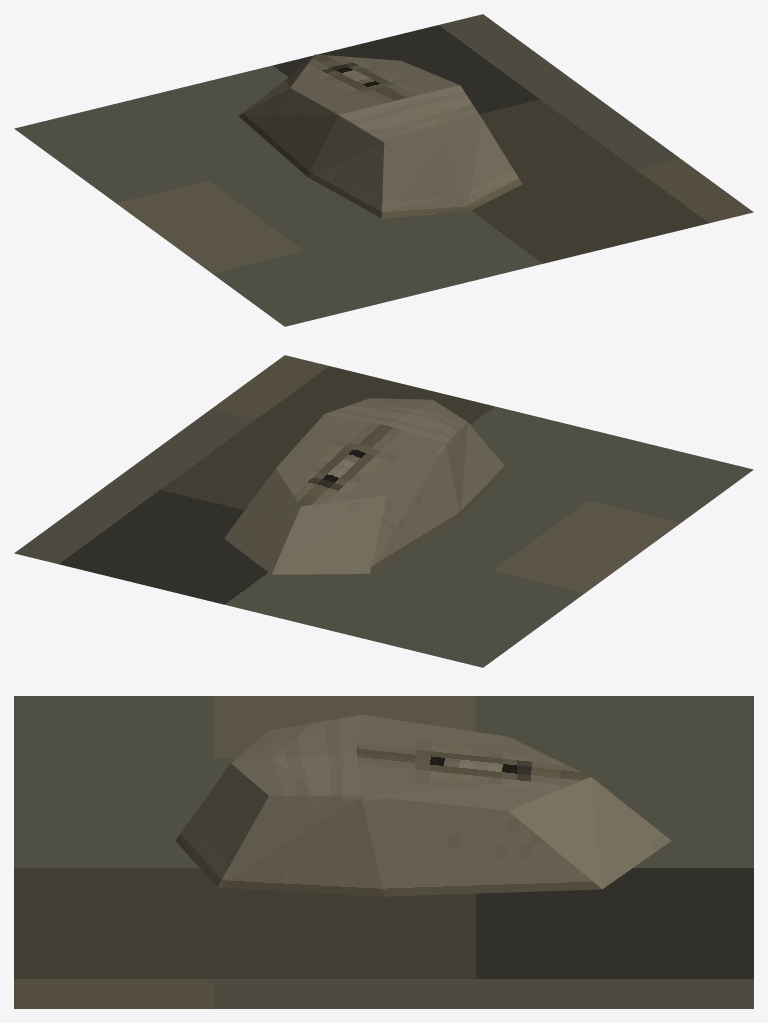
File: pc_mouse.glb
The picture shows the model from 3 angles, top to bottom: view 1: azimuth 30°, elevation 25°; view 2: azimuth 150°, elevation 25°; view 3: azimuth 270°, elevation 25°; orthographic projection. The views are drawn at different scales.
Parts seen in each view (by area): view 1: pc_mouse; view 2: pc_mouse; view 3: pc_mouse.
Part boxes in pixels (bbox=[...]): pc_mouse: bbox=[14, 14, 753, 326]; pc_mouse: bbox=[14, 355, 753, 667]; pc_mouse: bbox=[14, 696, 753, 1008].
Size of the model in its own units: 0.1605 by 0.0251 by 0.1605.
1 material, 1 textured.
